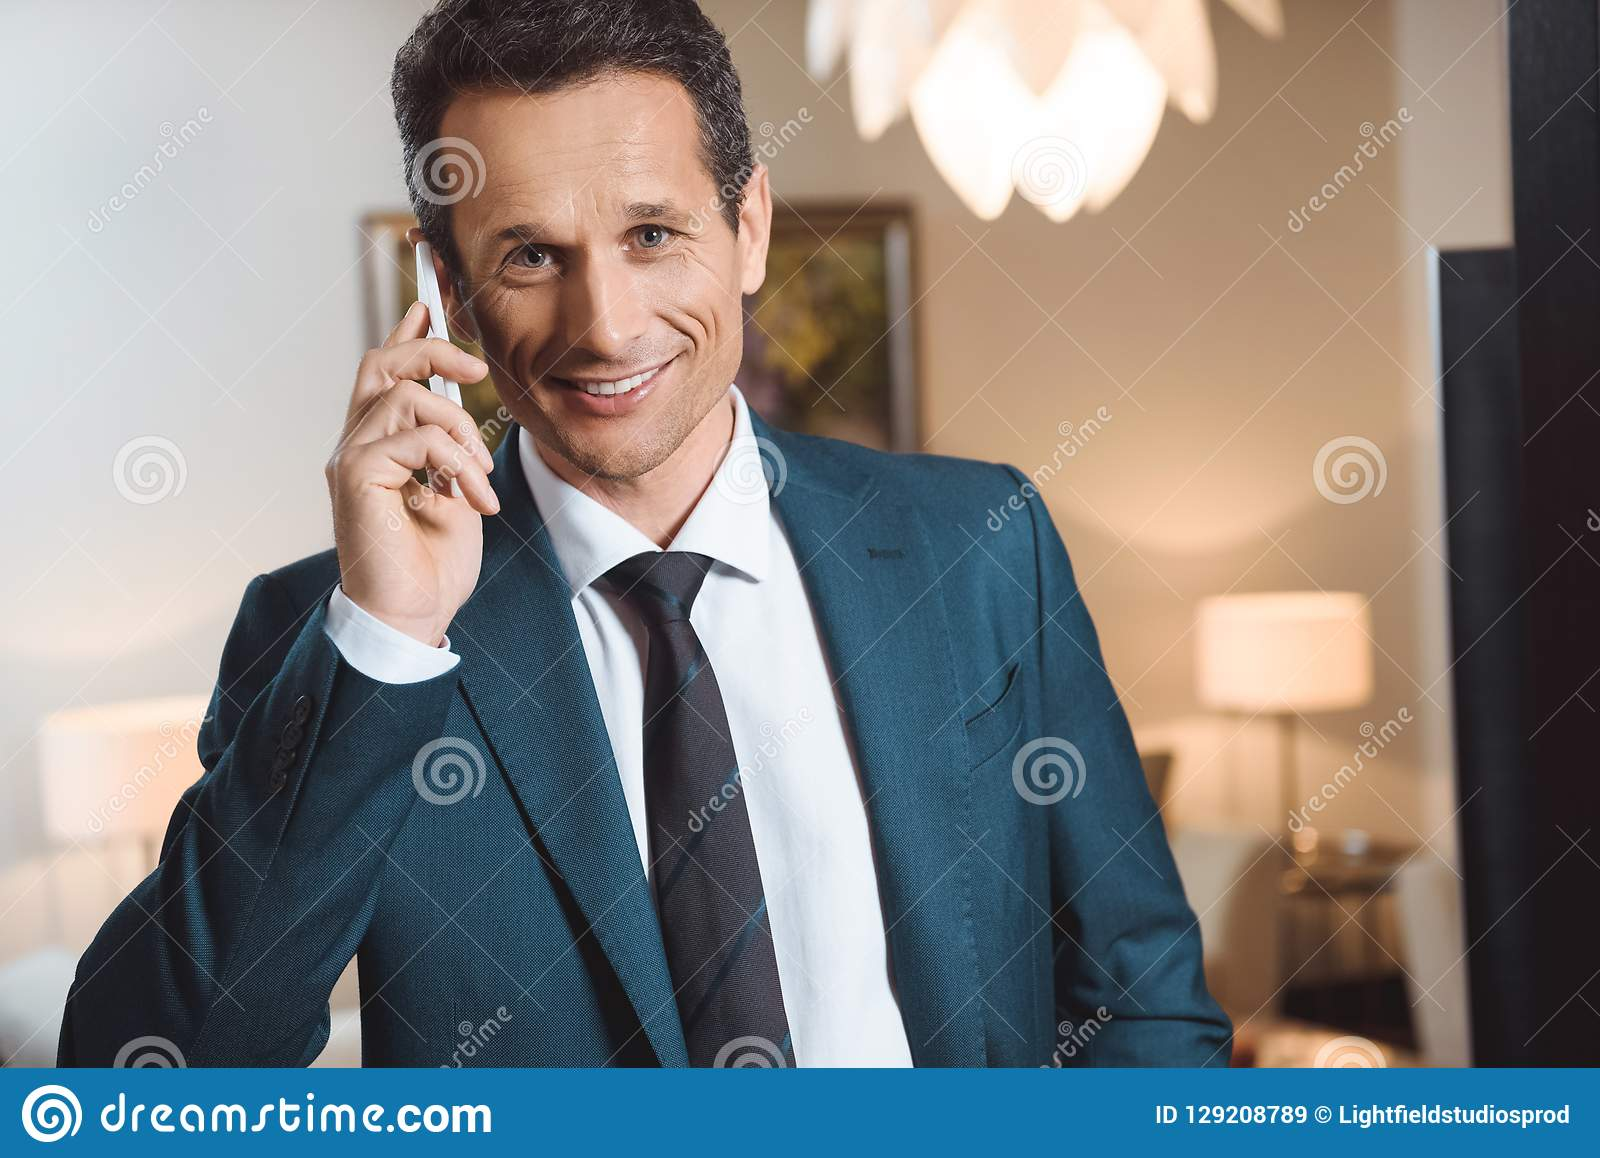phone: (396, 226, 498, 529)
talk: (323, 176, 724, 610)
